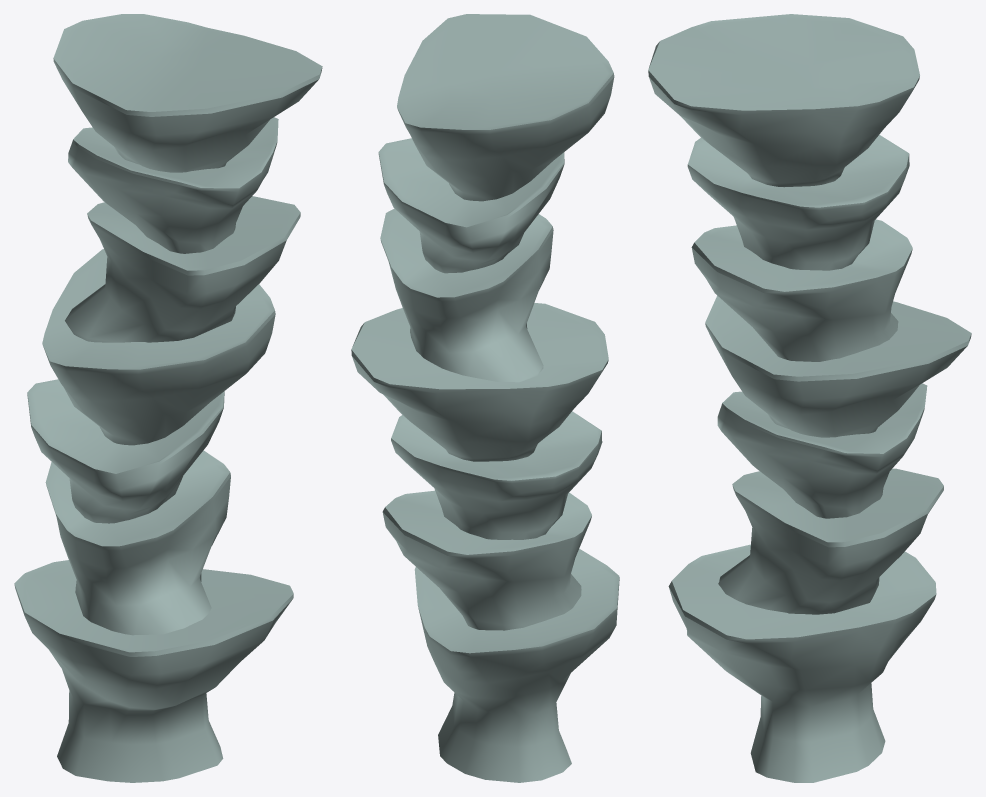
Rendered from SM_StoneShroom_Big.fbx.
3 renders of one model, left to right at view 1: azimuth 30°, elevation 25°; view 2: azimuth 150°, elevation 25°; view 3: azimuth 270°, elevation 25°, orthographic. The views are drawn at different scales.
Parts seen in each view (by area): view 1: SM_StoneShroom_Big_Placeholder_1, SM_StoneShroom_Big_Placeholder_7, SM_StoneShroom_Big_Placeholder_4, SM_StoneShroom_Big_Placeholder_2, SM_StoneShroom_Big_Placeholder_5, SM_StoneShroom_Big_Placeholder_3, SM_StoneShroom_Big_Placeholder_6; view 2: SM_StoneShroom_Big_Placeholder_7, SM_StoneShroom_Big_Placeholder_1, SM_StoneShroom_Big_Placeholder_4, SM_StoneShroom_Big_Placeholder_5, SM_StoneShroom_Big_Placeholder_2, SM_StoneShroom_Big_Placeholder_3, SM_StoneShroom_Big_Placeholder_6; view 3: SM_StoneShroom_Big_Placeholder_7, SM_StoneShroom_Big_Placeholder_1, SM_StoneShroom_Big_Placeholder_2, SM_StoneShroom_Big_Placeholder_4, SM_StoneShroom_Big_Placeholder_5, SM_StoneShroom_Big_Placeholder_6, SM_StoneShroom_Big_Placeholder_3.
Boxes of the visible parts, x1,y1,x2,y2 form: SM_StoneShroom_Big_Placeholder_1: (14,560,293,782); SM_StoneShroom_Big_Placeholder_7: (53,14,322,172); SM_StoneShroom_Big_Placeholder_4: (42,249,275,445); SM_StoneShroom_Big_Placeholder_2: (45,450,230,635); SM_StoneShroom_Big_Placeholder_5: (65,196,300,342); SM_StoneShroom_Big_Placeholder_3: (27,379,224,523); SM_StoneShroom_Big_Placeholder_6: (68,117,278,253); SM_StoneShroom_Big_Placeholder_7: (397,14,614,201); SM_StoneShroom_Big_Placeholder_1: (414,548,619,782); SM_StoneShroom_Big_Placeholder_4: (351,303,608,461); SM_StoneShroom_Big_Placeholder_5: (380,208,553,382); SM_StoneShroom_Big_Placeholder_2: (382,490,591,630); SM_StoneShroom_Big_Placeholder_3: (391,411,602,539); SM_StoneShroom_Big_Placeholder_6: (378,138,564,273); SM_StoneShroom_Big_Placeholder_7: (648,14,919,187); SM_StoneShroom_Big_Placeholder_1: (668,544,936,782); SM_StoneShroom_Big_Placeholder_2: (718,468,943,614); SM_StoneShroom_Big_Placeholder_4: (705,295,971,437); SM_StoneShroom_Big_Placeholder_5: (691,219,912,361); SM_StoneShroom_Big_Placeholder_6: (687,135,909,270); SM_StoneShroom_Big_Placeholder_3: (717,383,927,518).
Size of the model in its own units: 1433 by 3959 by 1643.
